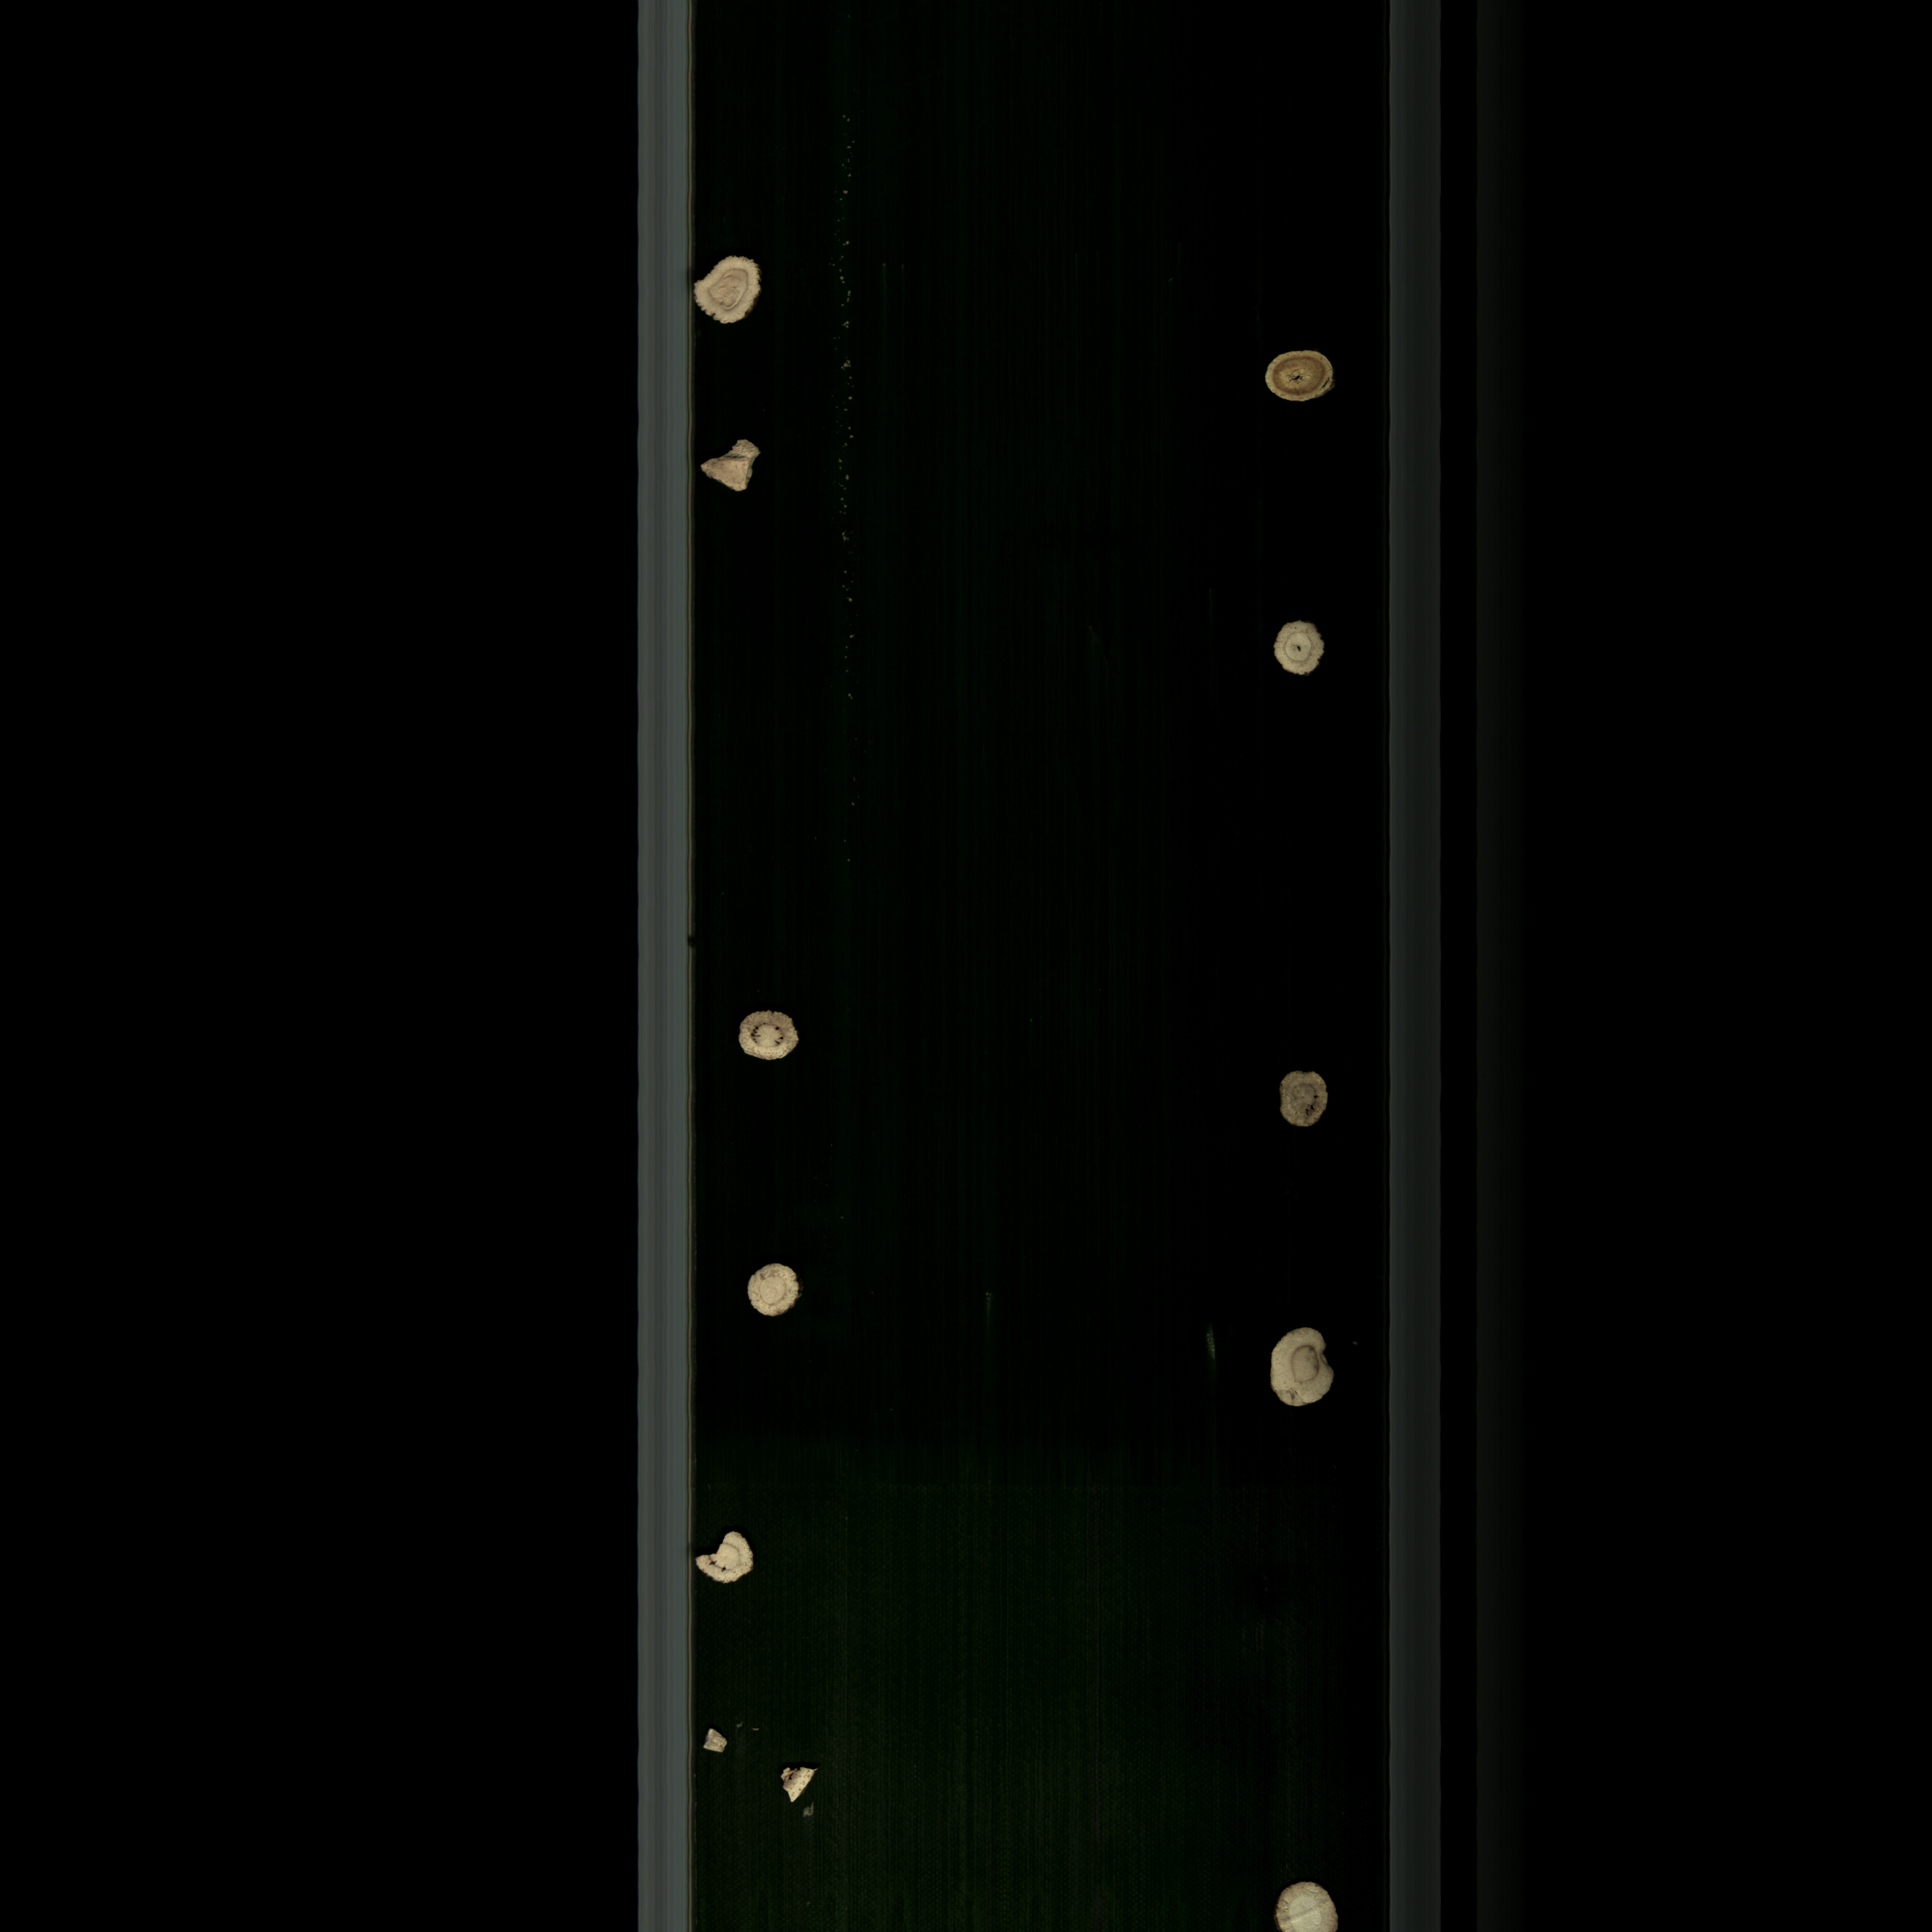debris: (695, 430, 784, 508), (688, 1522, 770, 1599)
dreg: (697, 1723, 741, 1759)
hole: (731, 1003, 830, 1070), (1261, 614, 1336, 697)
moldy: (1249, 1302, 1359, 1431), (1253, 1056, 1343, 1145), (690, 244, 777, 331), (1251, 345, 1357, 412), (768, 1757, 832, 1821)
